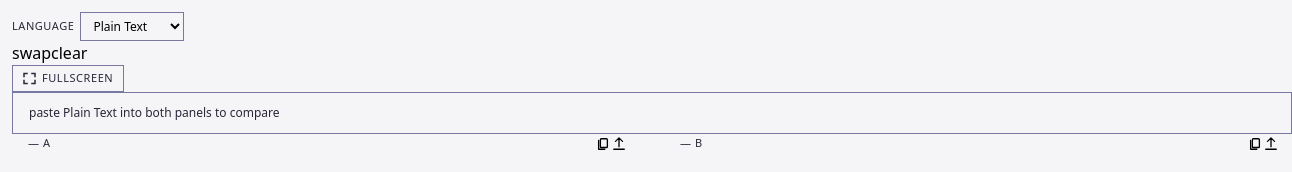
Scenario: MasterComparator › language switching › shows format button after switching to JSON
Select "JSON" in the dropdown at (132, 26), box [80,12,184,41]
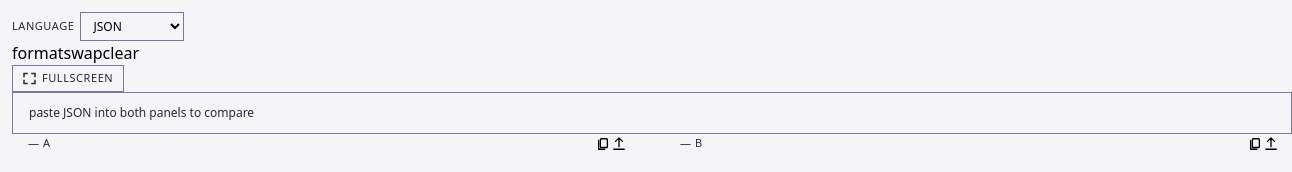
Check: the button titled "format" is shown, box [12,41,64,65]
